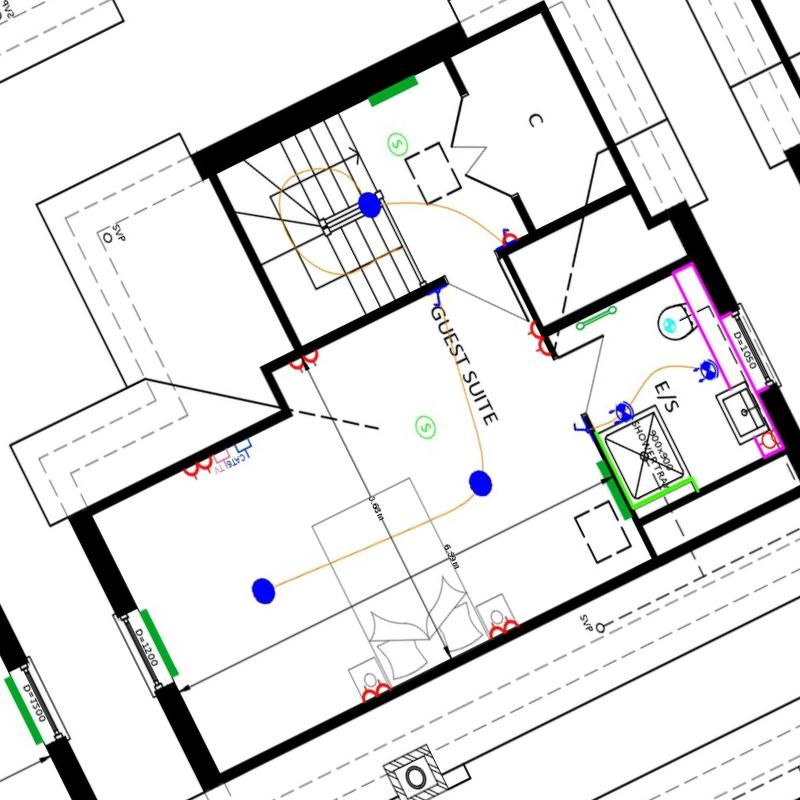Cat 6 Data Socket: (226, 439, 252, 468)
Ceiling Mounted Continuous Extract FanWith Boost Mode Activated By Light Switch: (664, 318, 677, 333)
Co-Ax TV Socket: (213, 450, 230, 474)
Double Socket: (527, 321, 550, 357), (489, 616, 519, 639), (289, 350, 319, 373), (184, 457, 212, 481), (362, 680, 390, 702)
Full Height Tiling: (595, 431, 700, 510)
Light Switch: (432, 289, 444, 307), (572, 422, 587, 434), (501, 226, 510, 245)
Low Energy Downlighter: (693, 359, 719, 384), (608, 401, 634, 424)
Low Energy Pendant Light: (252, 578, 276, 605), (469, 470, 493, 497), (358, 192, 382, 218)
Mains Wired Smoke Detector: (414, 415, 436, 439), (387, 132, 408, 156)
Radiator: (139, 609, 179, 678), (4, 676, 44, 745), (596, 460, 631, 521), (368, 76, 419, 106)
Shaver Socket: (758, 430, 782, 449)
Single Socket: (501, 228, 517, 245)
